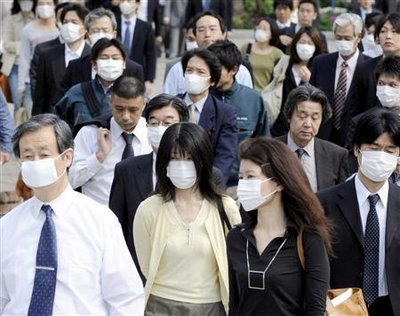mask: (358, 150, 399, 182), (19, 162, 59, 186), (236, 181, 266, 211), (168, 159, 197, 189), (98, 61, 126, 80), (376, 85, 400, 106), (183, 75, 207, 95), (60, 26, 82, 41)
